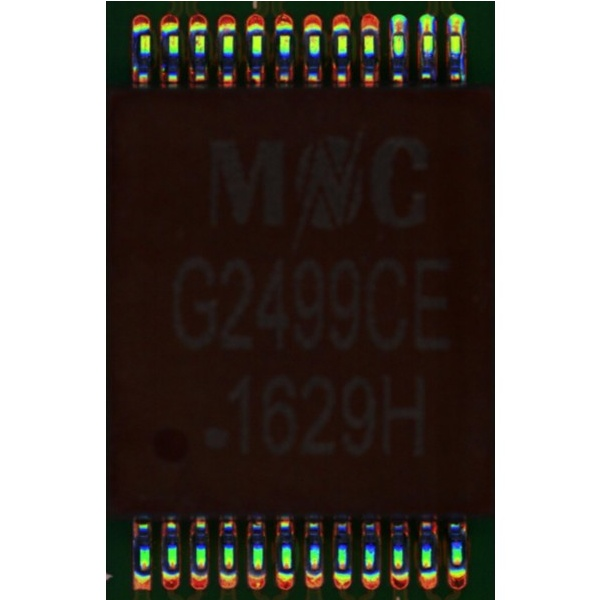Bad_podu: (422, 24, 432, 38), (449, 27, 459, 39), (392, 27, 403, 37)
Bad_qiaojiao: (458, 32, 464, 79)
